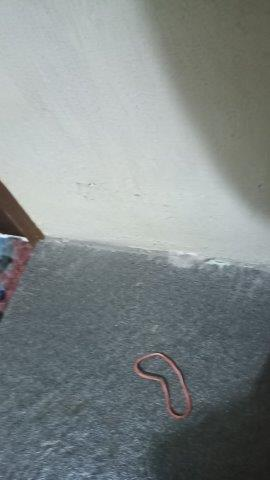karet: (134, 352, 192, 419)
